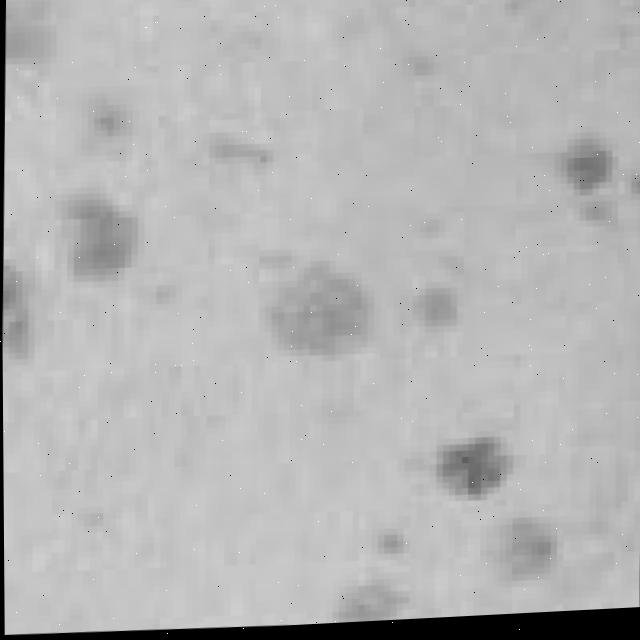Melasma: (337, 468, 551, 623), (2, 200, 139, 342), (259, 261, 370, 342), (555, 147, 640, 190)
